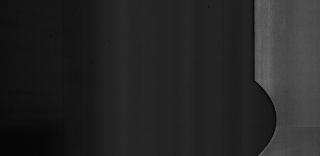welding line: (273, 120, 319, 132)
